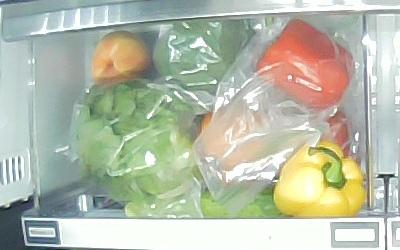broccoli_vinyl: (153, 19, 254, 91)
cucumber_vinyl: (124, 192, 283, 218)
lettuce_vinyl: (72, 82, 202, 202)
paprika: (273, 141, 365, 217)
paprika_vinyl: (256, 19, 355, 109)
peach: (90, 30, 153, 83)
